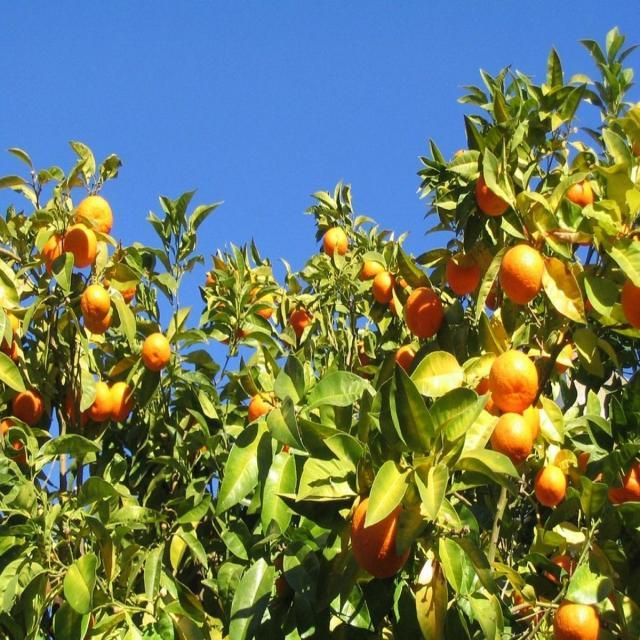Jeruk Sudah Matang: (485, 350, 540, 417)
